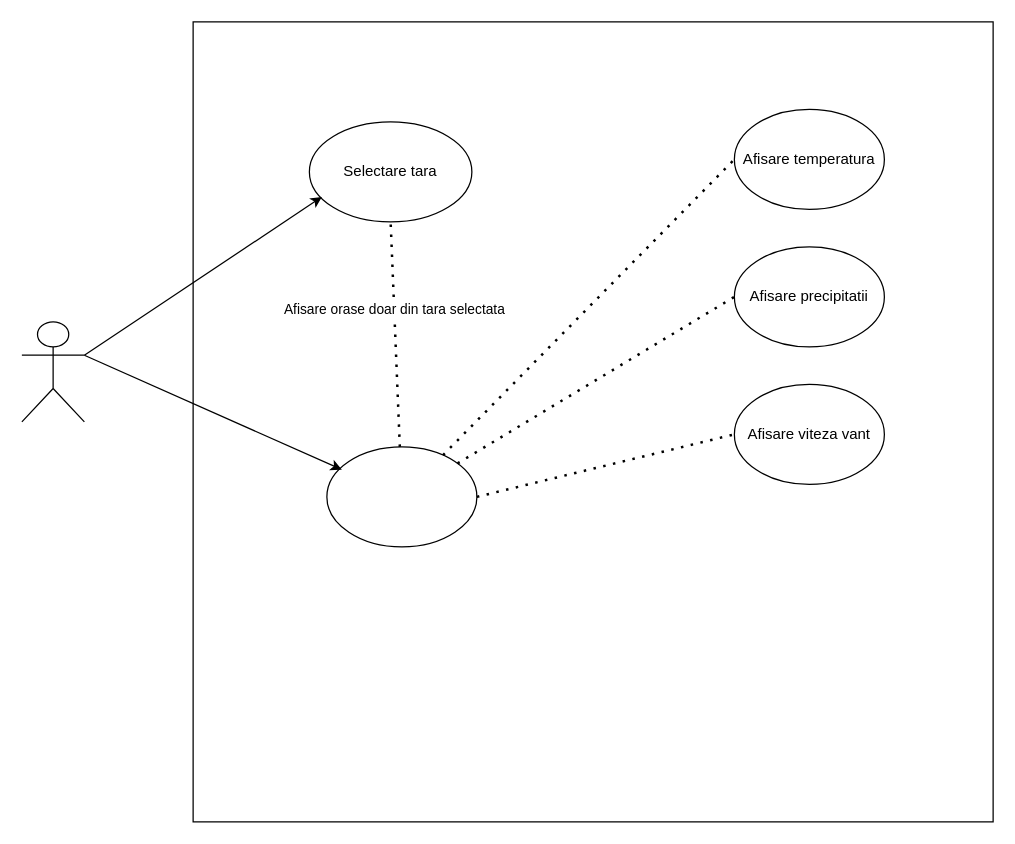
The diagram is 1015 pixels wide and 844 high, and some of its shapes have lost their labels. The centre of each missing label's shape, as x and y in pixels:
Selectare oras: [401,496]
Utilizator: [52,371]
